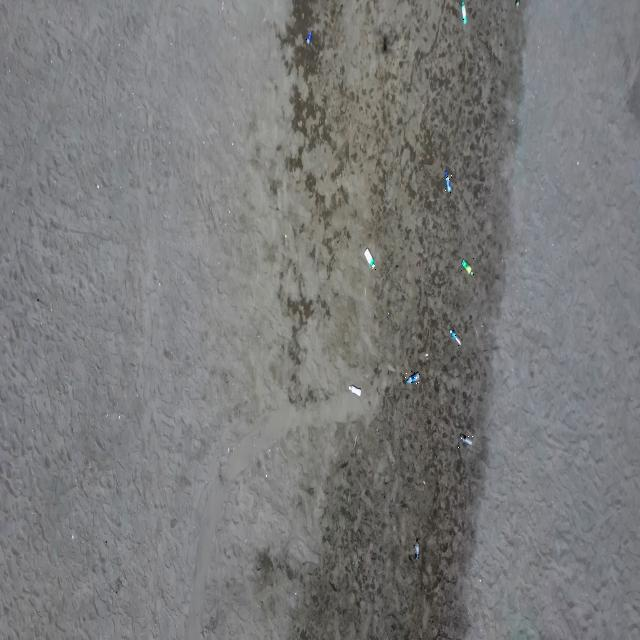plastic-bottle: (363, 248, 376, 270), (460, 258, 474, 276), (449, 329, 463, 346), (458, 434, 474, 448), (405, 371, 420, 385), (348, 384, 361, 398), (461, 0, 468, 26), (445, 169, 452, 195), (305, 27, 313, 45), (414, 538, 420, 562)
